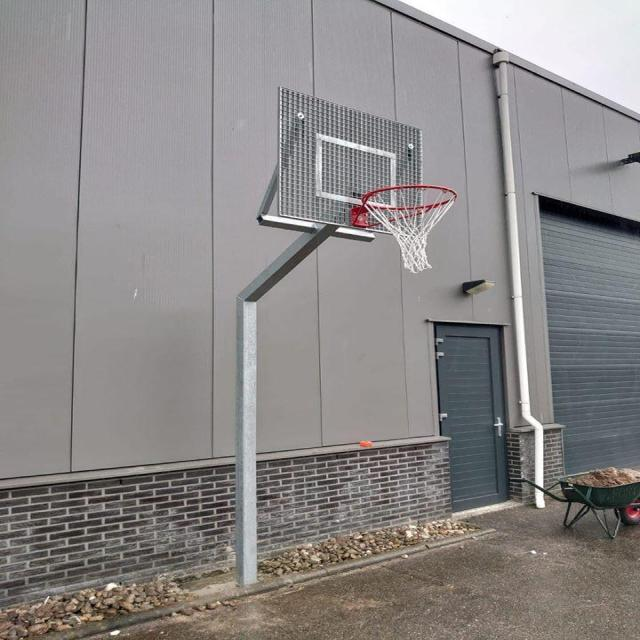hoop: (340, 156, 479, 272)
